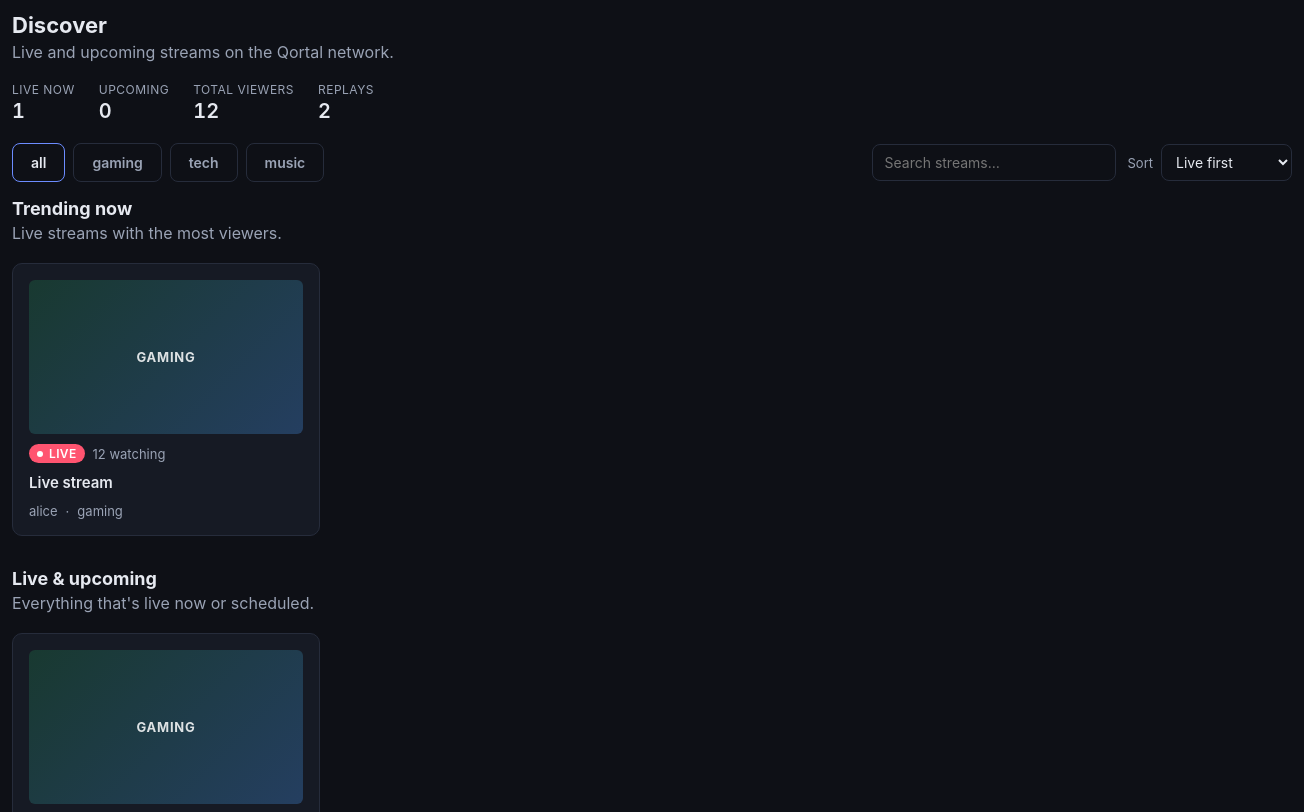
DiscoveryPage › filters both sections by the search query
Expected: the link "Live stream" is shown, [29, 473, 113, 492]
Type "archived talk" into the search field labelled "Search streams". click: (994, 162)
box: [872, 144, 1116, 181]
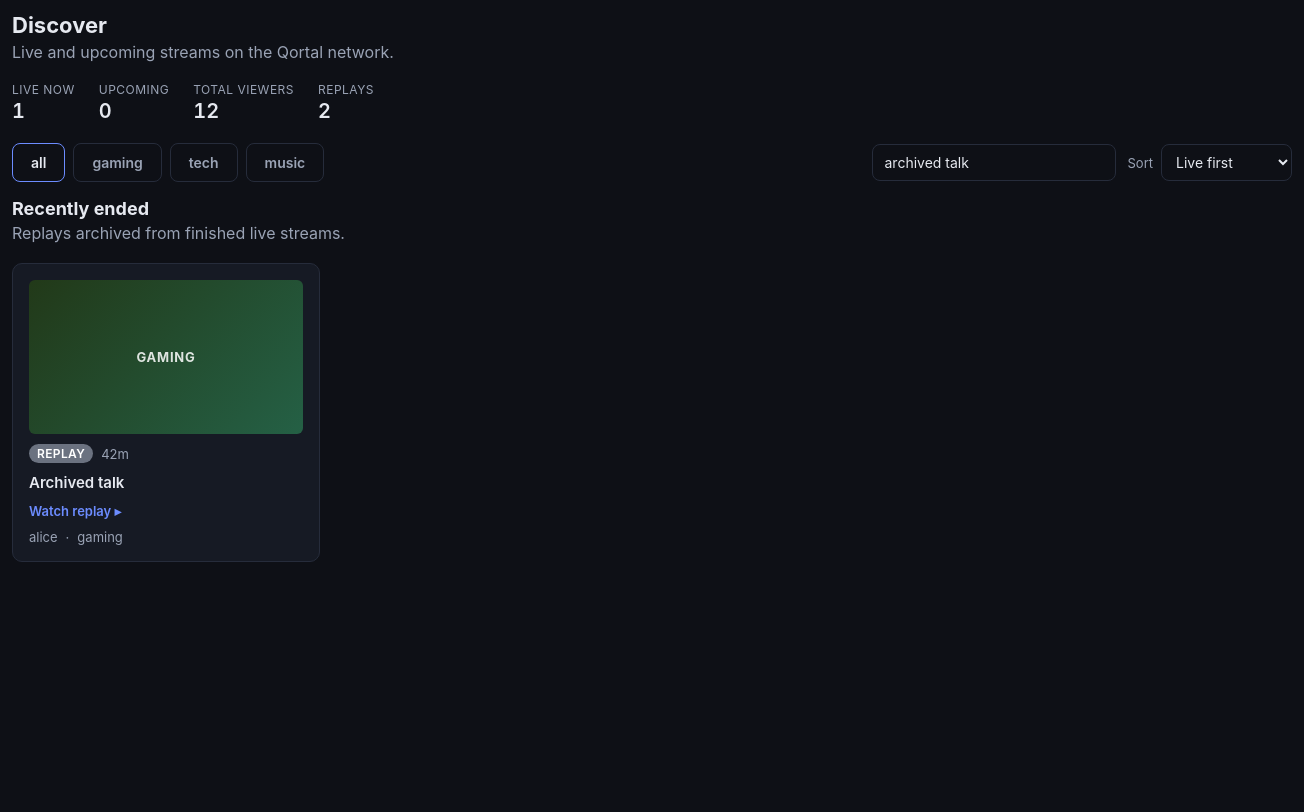
Expected: the link "Archived talk" is shown, [29, 473, 124, 492]
Result: the text "Just ended" is gone
